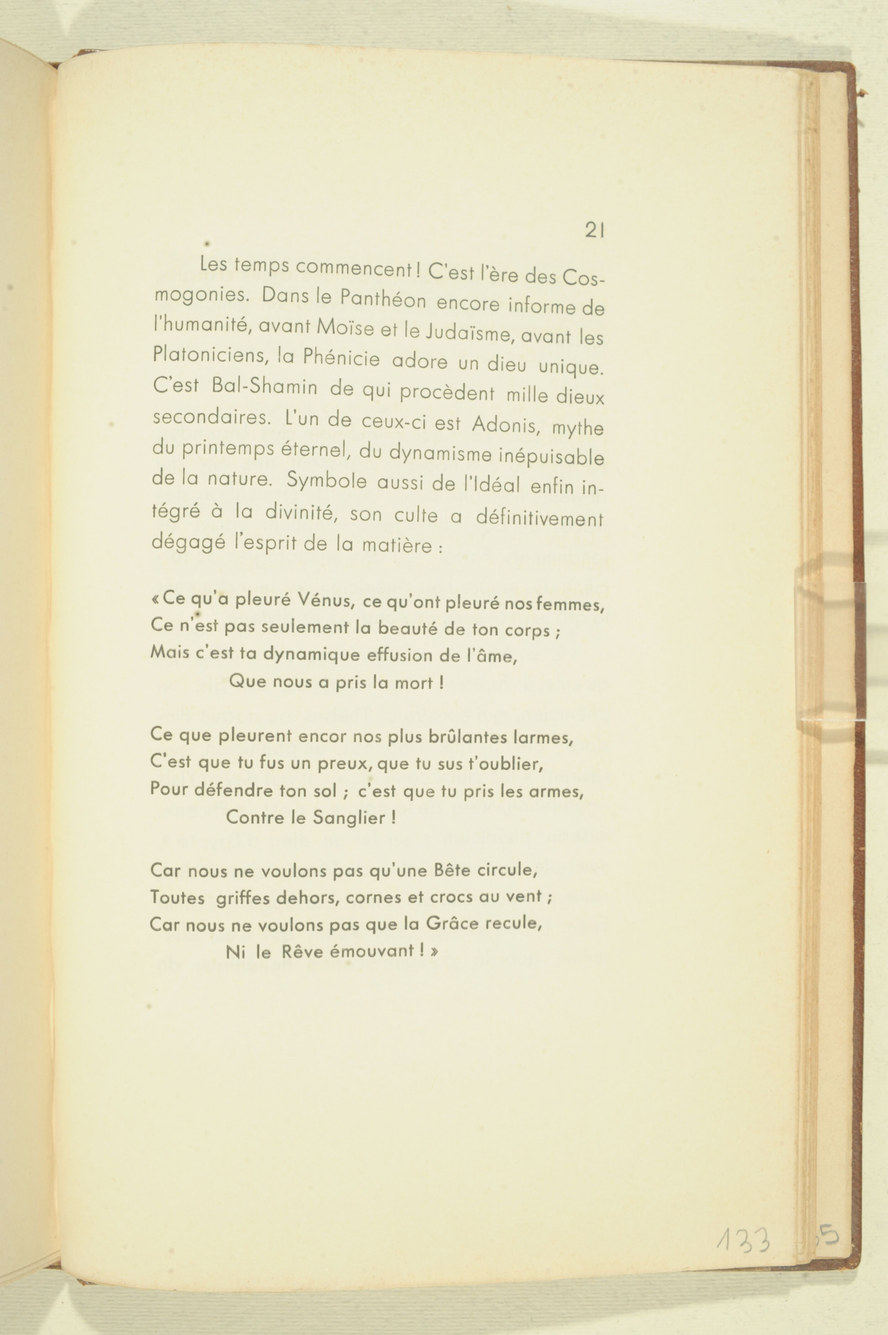LigneDeProse: (142, 250, 657, 560)
N°Page: (566, 202, 621, 256)
Vers: (127, 574, 604, 610), (136, 712, 581, 745), (144, 742, 571, 775), (141, 608, 594, 637), (144, 773, 600, 801), (132, 634, 552, 664), (154, 934, 486, 969), (143, 856, 602, 880), (144, 885, 561, 908), (132, 913, 562, 934), (201, 666, 445, 695), (204, 801, 424, 829)
